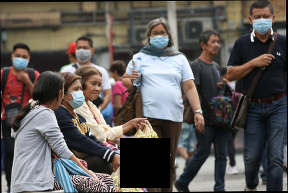with_mask: (252, 12, 273, 37), (67, 84, 86, 111), (150, 29, 171, 50), (12, 53, 30, 72), (75, 45, 93, 63)
without_mask: (83, 80, 103, 101), (204, 37, 222, 55)
